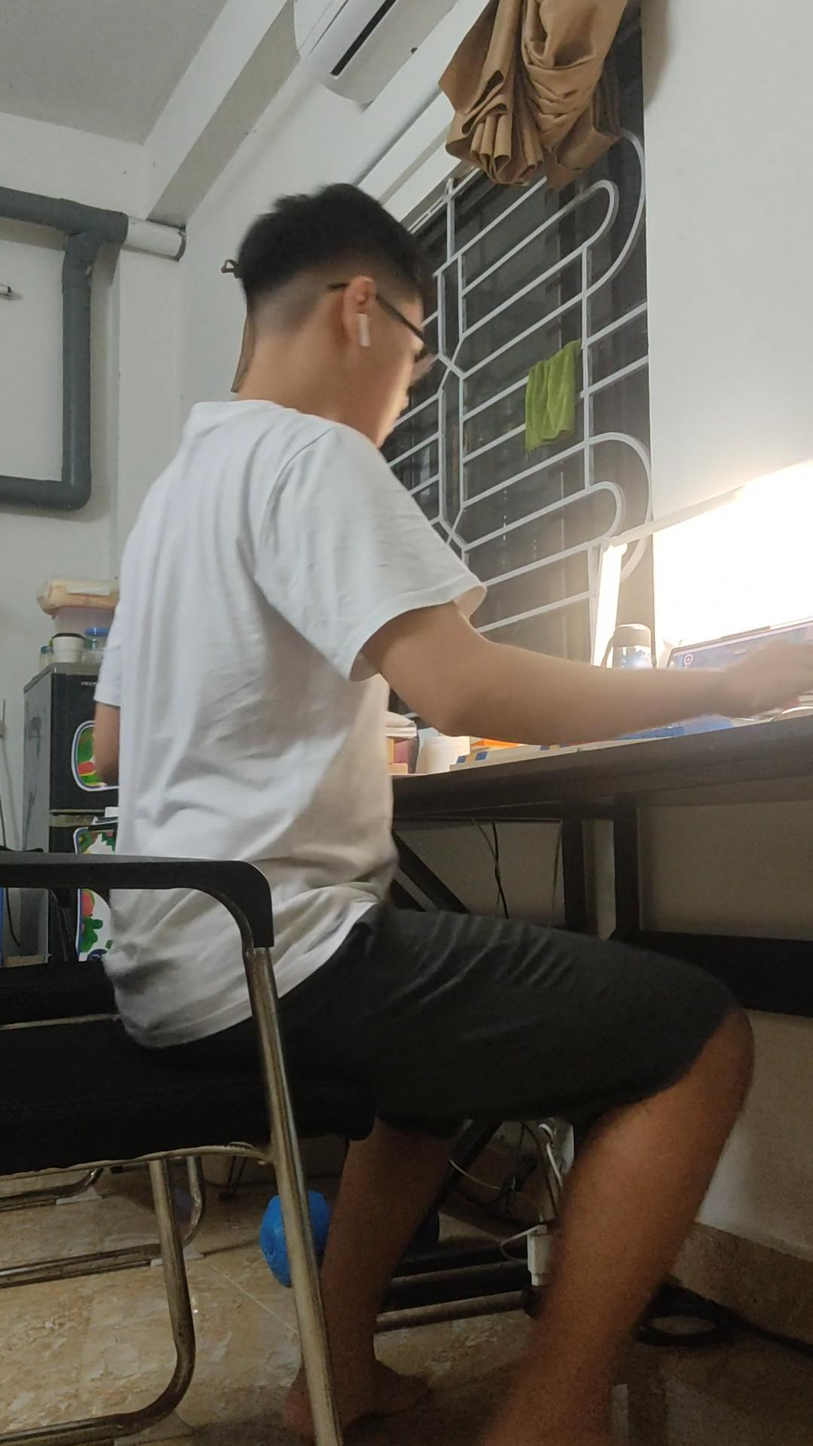GoodPosture: (96, 185, 812, 1445)
